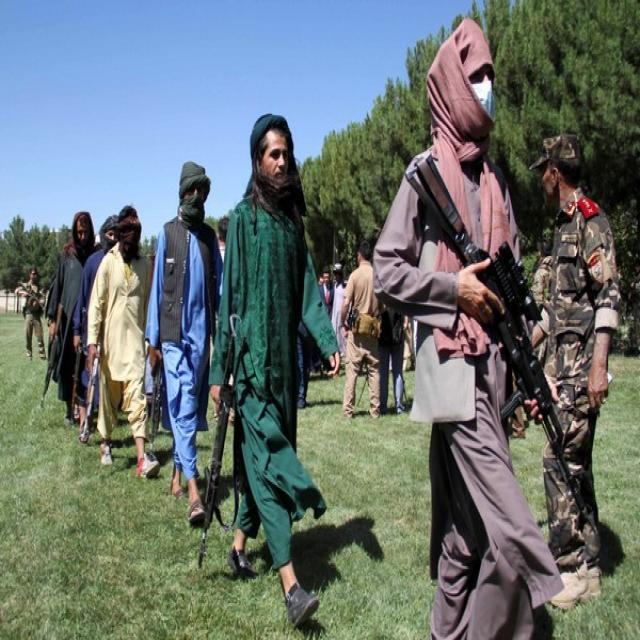Forest: (0, 0, 640, 639)
Militant: (364, 1, 570, 640), (210, 78, 360, 630), (518, 96, 623, 604), (140, 137, 235, 544), (91, 190, 158, 492), (40, 182, 100, 450)
